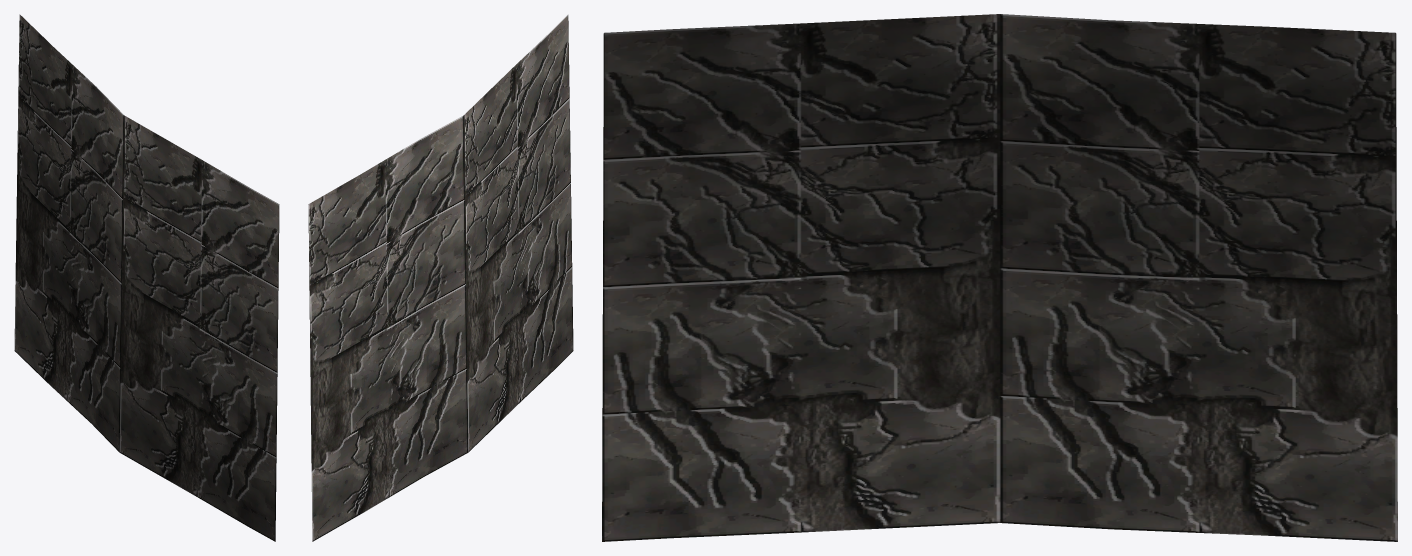
File: CH09_SMAUG_PLAYSURFACE_LAIR125.fbx
3 renders of one model, left to right at view 1: azimuth 30°, elevation 25°; view 2: azimuth 150°, elevation 25°; view 3: azimuth 270°, elevation 25°, orthographic. The views are drawn at different scales.
Parts seen in each view (by area): view 1: CH09_SMAUG_PLAYSURFACE_LAIR125; view 2: CH09_SMAUG_PLAYSURFACE_LAIR125; view 3: CH09_SMAUG_PLAYSURFACE_LAIR125.
Part boxes in pixels (<box>): CH09_SMAUG_PLAYSURFACE_LAIR125: <box>14,14,279,541</box>; CH09_SMAUG_PLAYSURFACE_LAIR125: <box>308,14,573,541</box>; CH09_SMAUG_PLAYSURFACE_LAIR125: <box>602,14,1397,541</box>.
Bounding box in the file's own units: 10453 × 111989 × 157636.
1 material, 1 textured.
